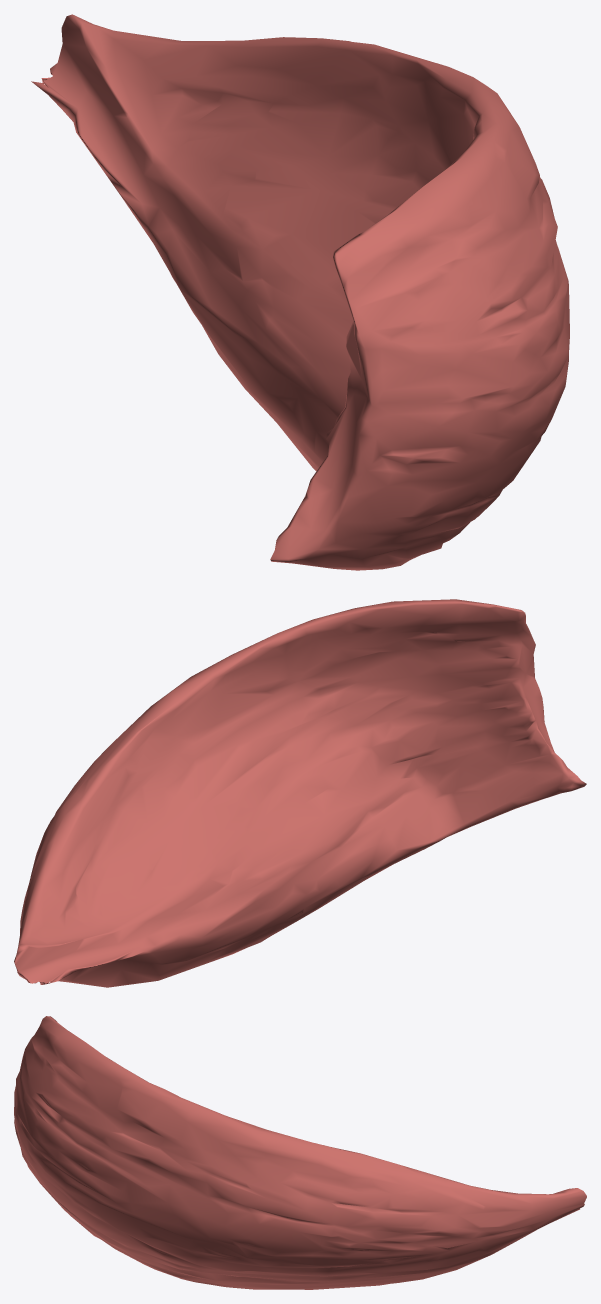
3 renders of one model, top to bottom at view 1: azimuth 30°, elevation 25°; view 2: azimuth 150°, elevation 25°; view 3: azimuth 270°, elevation 25°, orthographic. The views are drawn at different scales.
Visible parts, largest first — view 1: 左侧三角肌肩峰部; view 2: 左侧三角肌肩峰部; view 3: 左侧三角肌肩峰部.
Part boxes in pixels (x1,y1,x2,y2): 左侧三角肌肩峰部: [31, 14, 569, 570]; 左侧三角肌肩峰部: [14, 599, 586, 987]; 左侧三角肌肩峰部: [14, 1016, 586, 1289].
Bounding box in the file's own units: 0.1112 × 0.0934 × 0.2175.
